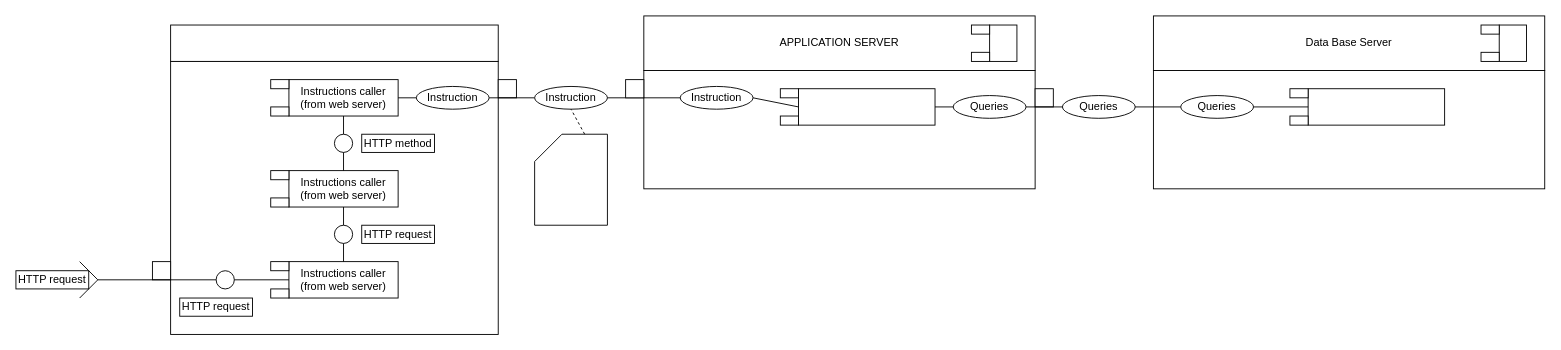
The diagram is 1561 pixels wide and 350 high, and some of its shapes have lost their labels. Each missing label, with the centre of its shape:
OOP Object: the point at 570,179
ORM (from Application server): the point at 866,106
PostgreSQL Data Base: the point at 1376,106
WEB SERVER: the point at 334,42
